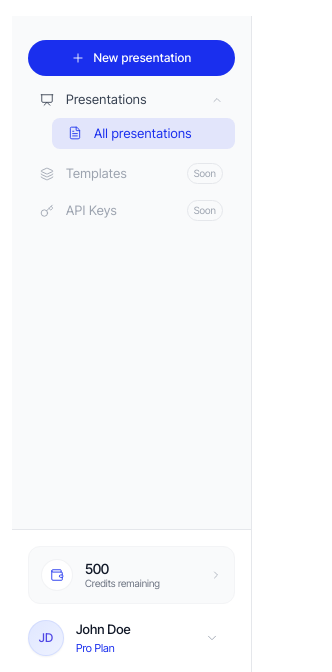
Test: Sidebar › Profile dropdown menu › should open profile menu when clicked
What coordinates should you click on to do the following:
click the button "JD John Doe Pro Plan"
I would click on:
 (124, 638)
Its box is [20,612,227,664].
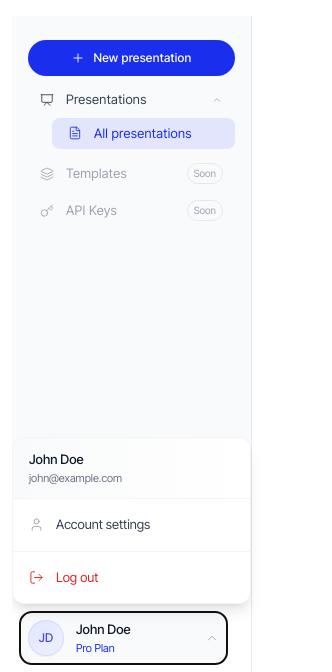
Check: the text "Account settings" is shown, box [56,515,150,534]
